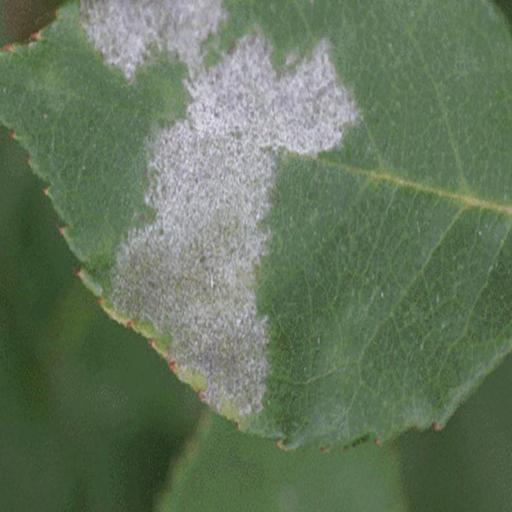powdery_mildew: (0, 0, 512, 450)
